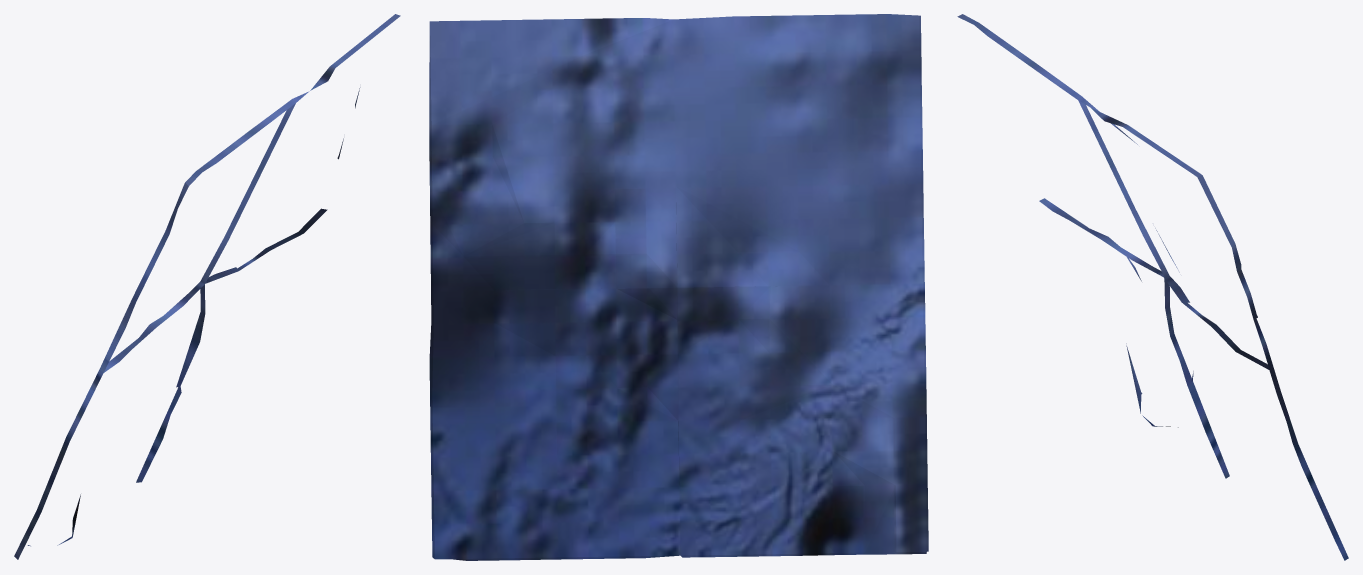
3 renders of one model, left to right at view 1: azimuth 30°, elevation 25°; view 2: azimuth 150°, elevation 25°; view 3: azimuth 270°, elevation 25°, orthographic. The views are drawn at different scales.
Bounding box in the file's own units: 38694 × 37330 × 31088.
1 material, 1 textured.
